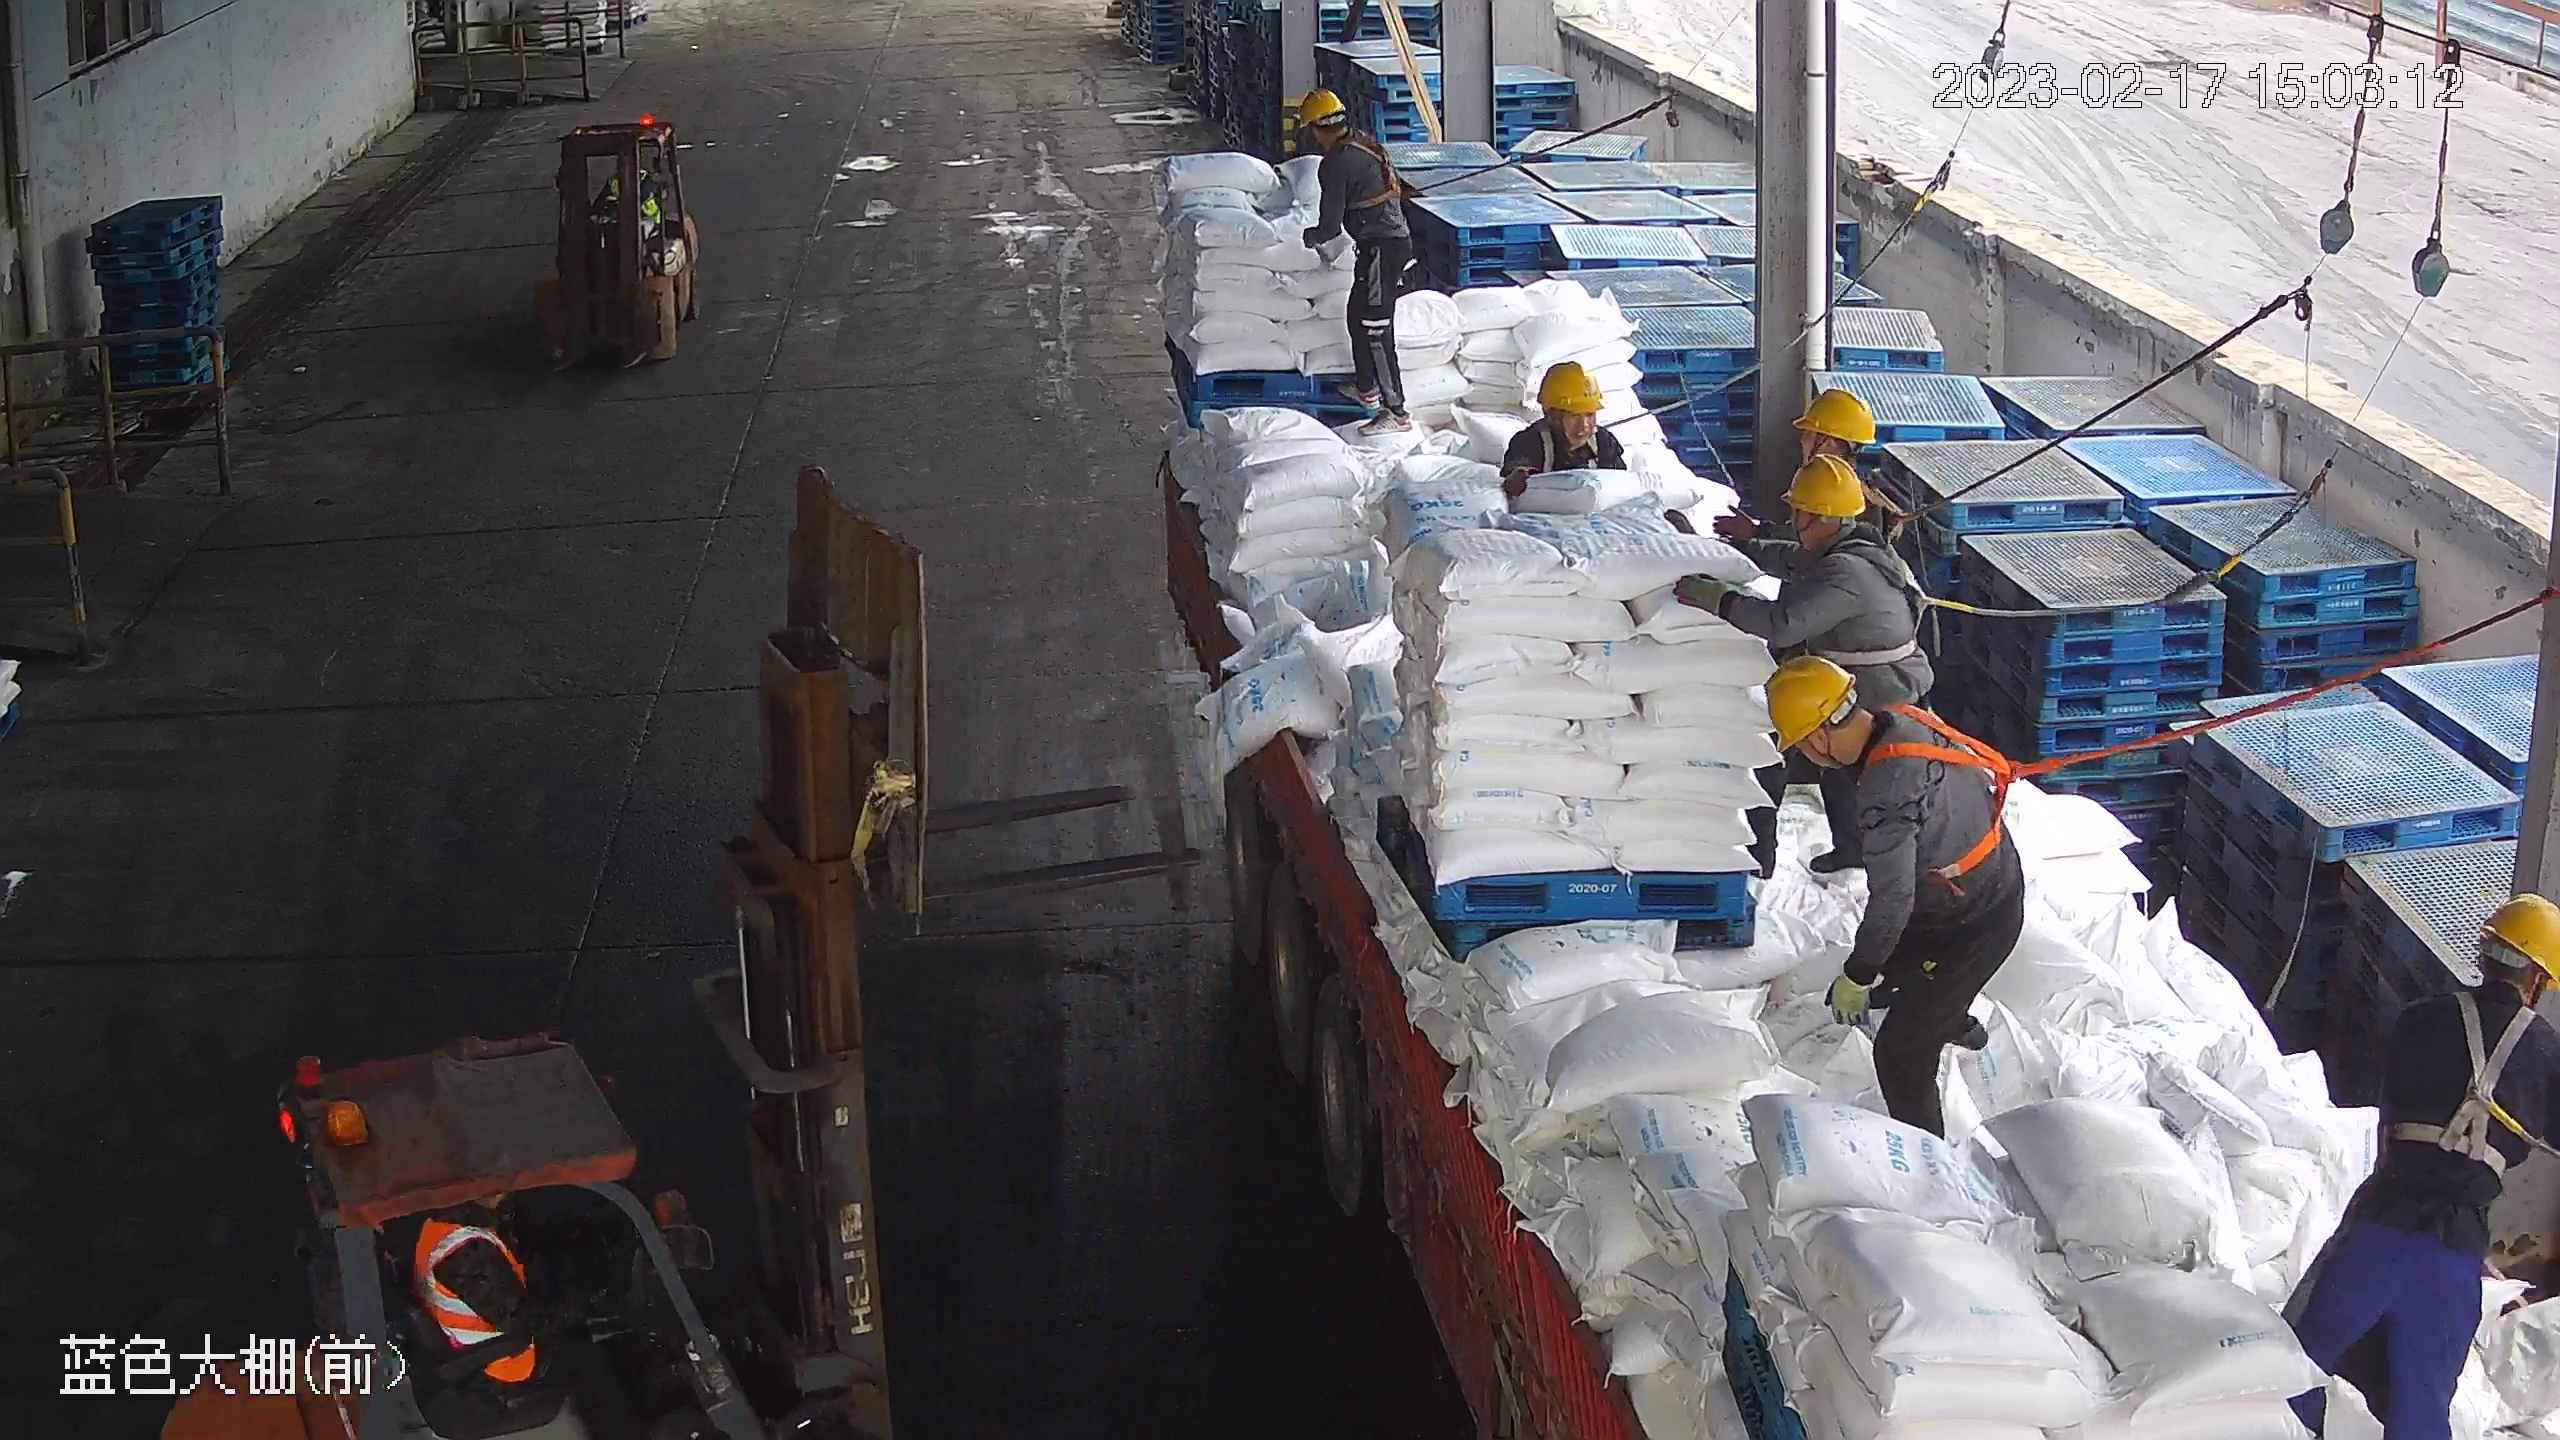belt: (1857, 695, 2051, 890), (2386, 982, 2554, 1175), (1806, 525, 1960, 670), (1517, 383, 1622, 468), (1328, 128, 1418, 217), (1535, 416, 1609, 476)
head: (2382, 888, 2560, 1111), (1763, 651, 1980, 823), (1766, 452, 1910, 603), (1293, 87, 1403, 181)
helmet: (1762, 651, 1859, 754), (2480, 889, 2559, 1000), (1775, 453, 1871, 521), (1792, 382, 1880, 447), (1535, 358, 1608, 416), (1292, 87, 1348, 133)
people: (2269, 890, 2560, 1439), (1762, 648, 2029, 1142), (1699, 454, 1895, 911), (410, 1196, 669, 1440), (1292, 86, 1420, 424)
truck: (934, 125, 2545, 1440)
